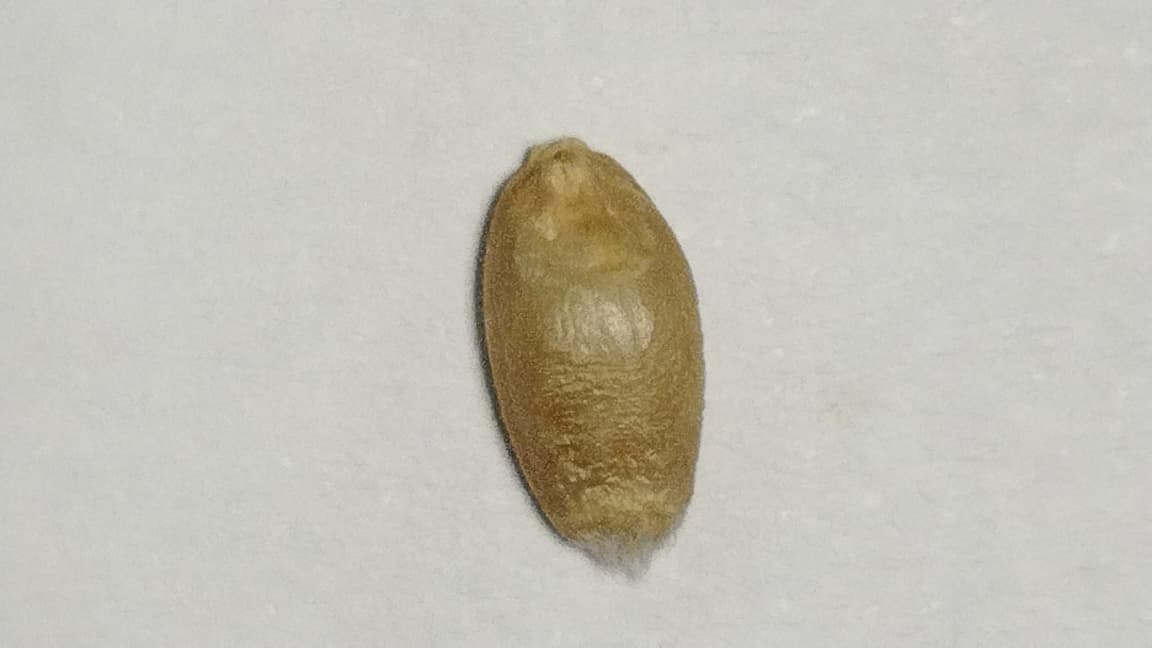healthy: (482, 139, 703, 566)
